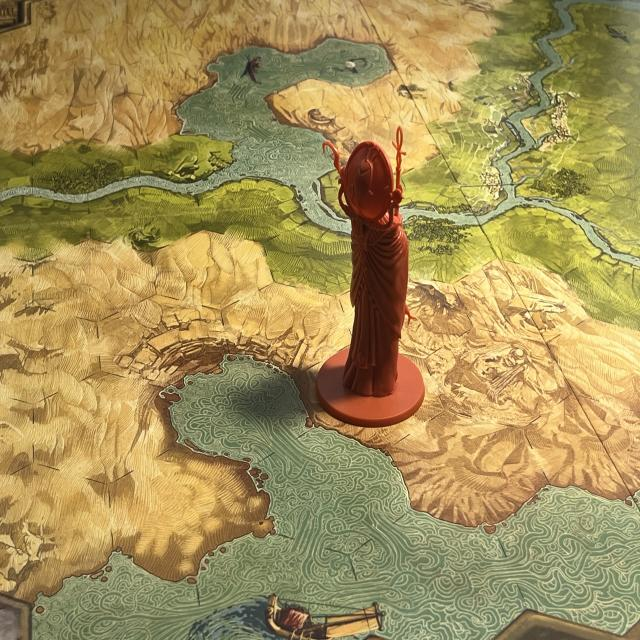amon: (312, 115, 433, 428)
